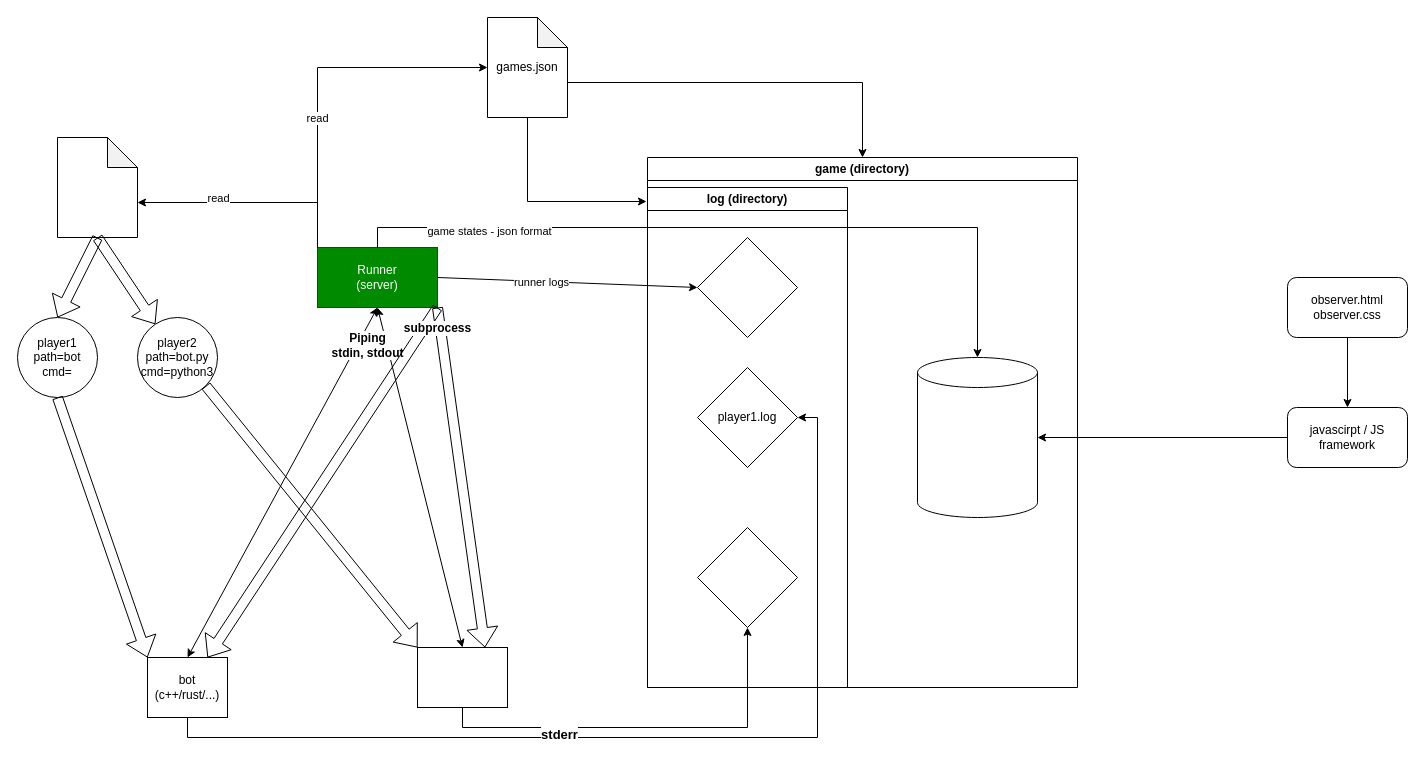
The diagram is 1425 pixels wide and 763 high, and some of its shapes have lost their labels. The shapes that lost their labels are listed below. From the top down, each one's centre as x and y in pixels, then its label:
At (x=97, y=187): "config.json".
At (x=747, y=287): "__server__.log".
At (x=977, y=437): "observer.gz".
At (x=747, y=577): "player2.log".
At (x=462, y=677): "bot.py".
